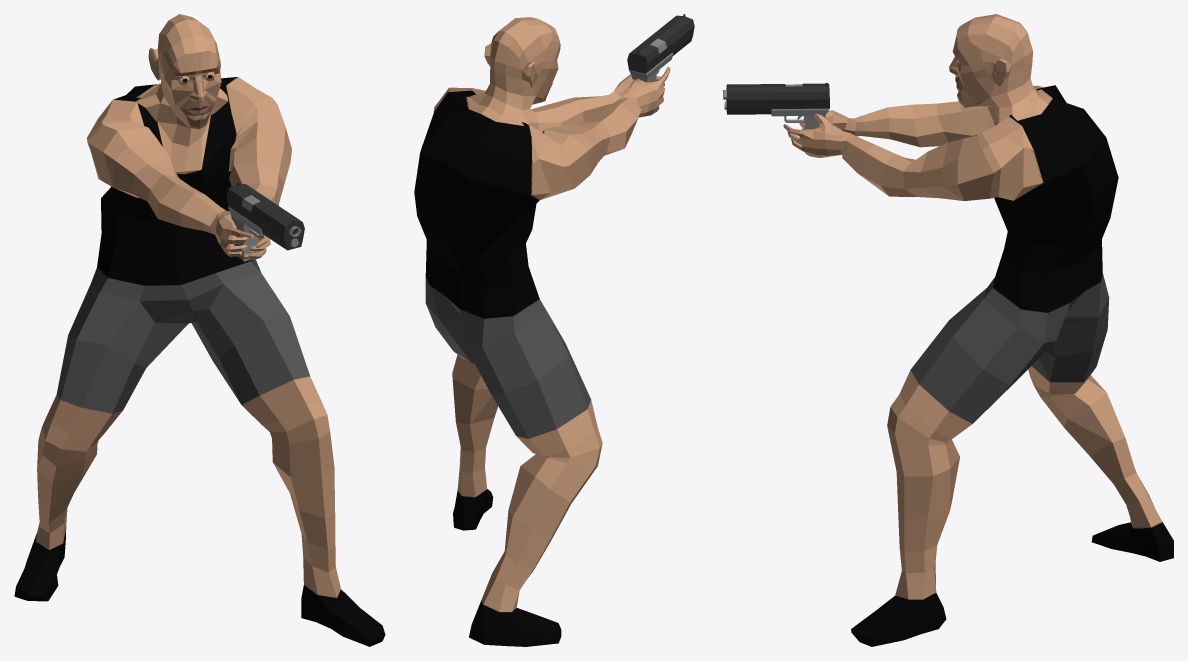
File: PlayerShoot(23).obj
3 renders of one model, left to right at view 1: azimuth 30°, elevation 25°; view 2: azimuth 150°, elevation 25°; view 3: azimuth 270°, elevation 25°, orthographic. The views are drawn at different scales.
Parts seen in each view (by area): view 1: Plane002, Box003; view 2: Plane002, Box003; view 3: Plane002, Box003.
Boxes of the visible parts, <box> form: Plane002: <box>14,14,385,646</box>; Box003: <box>226,182,304,261</box>; Plane002: <box>414,17,670,646</box>; Box003: <box>627,14,694,82</box>; Plane002: <box>783,14,1173,646</box>; Box003: <box>723,83,829,151</box>.
Size of the model in its own units: 715 by 1664 by 1195.
